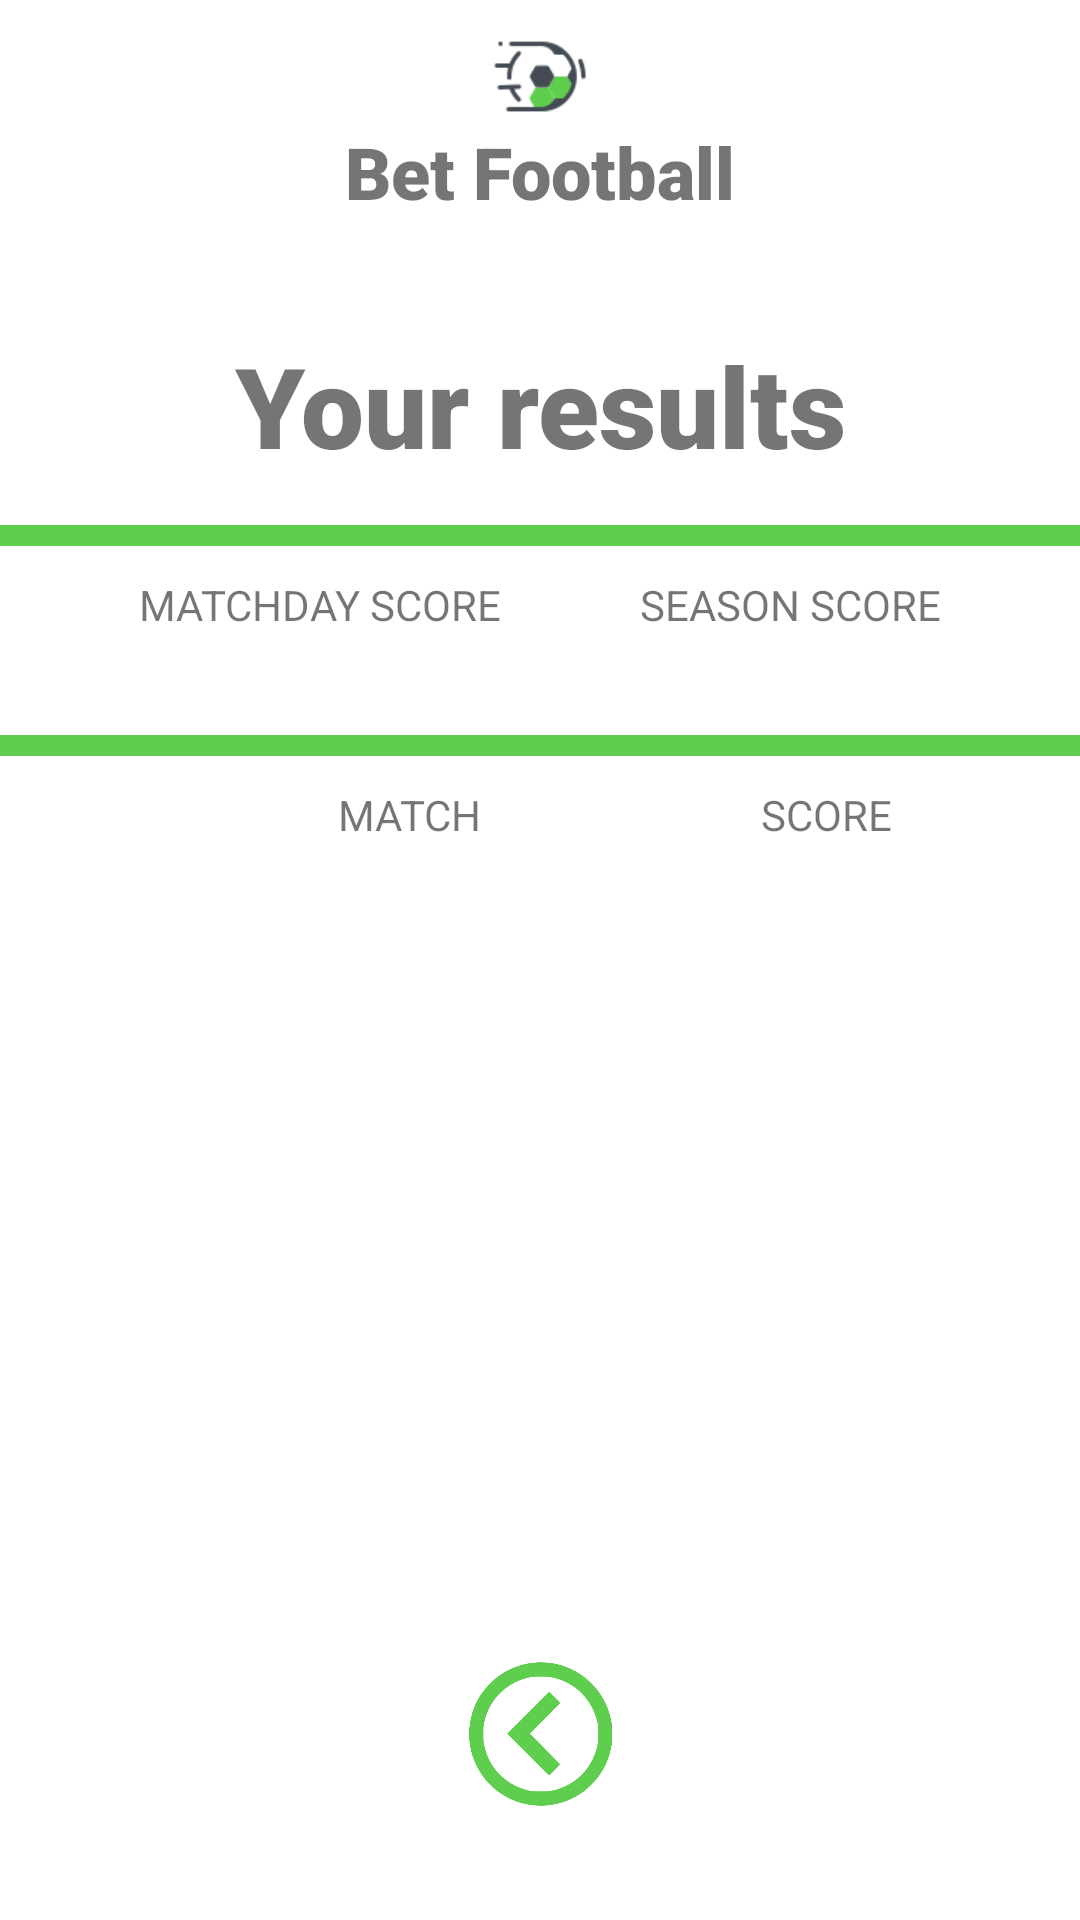

Icon bounding boxes for this 1080 x 1920 phone screenshot, format (x1, y1, x2, y2):
back: (469, 1662, 612, 1806)
